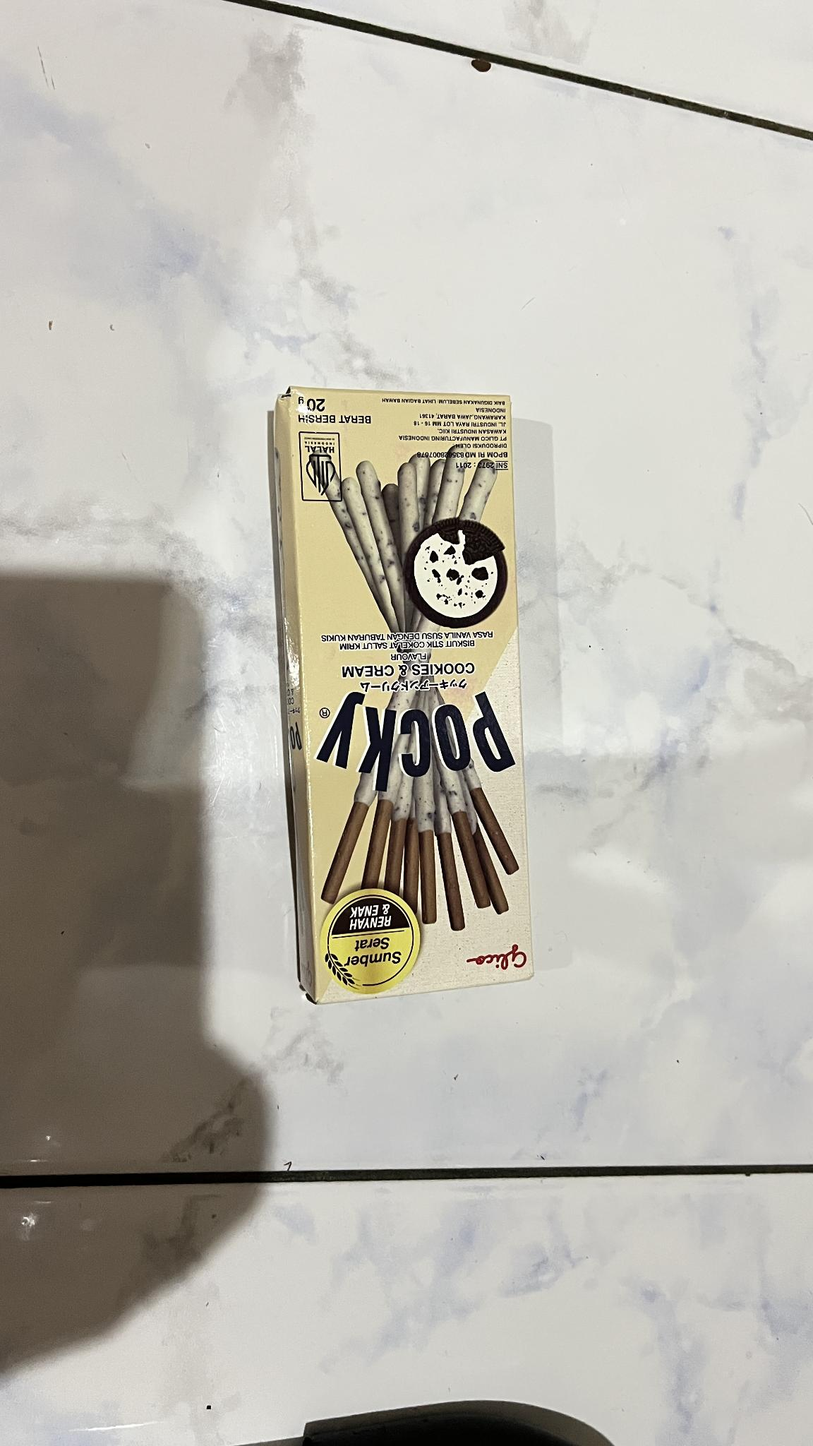Kertas: (251, 380, 541, 1011)
